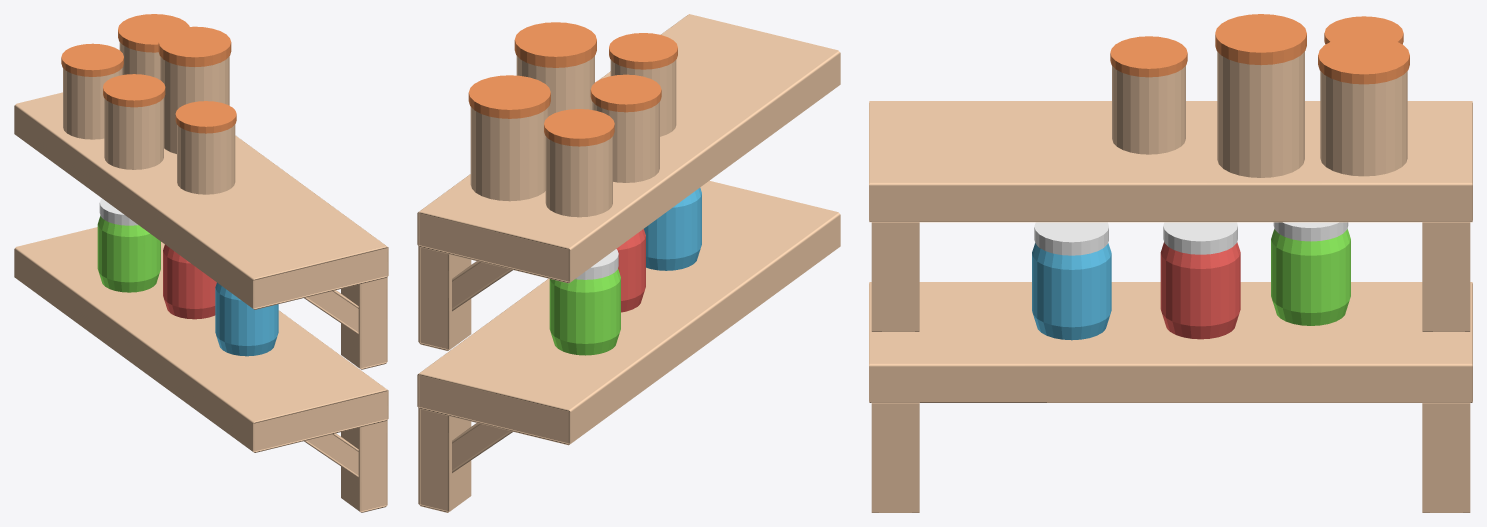
Rendered from especias.fbx.
3 views of the same model, side by side, from view 1: azimuth 30°, elevation 25°; view 2: azimuth 150°, elevation 25°; view 3: azimuth 270°, elevation 25° (orthographic). The views are drawn at different scales.
Visible parts, largest first — view 1: Hang shelf, Hang shelf.001, Wood jar, Jar; view 2: Hang shelf, Hang shelf.001, Wood jar, Jar; view 3: Hang shelf.001, Hang shelf, Wood jar, Jar.
Part boxes in pixels (x1,y1,x2,y2): Hang shelf: [14, 227, 388, 512]; Hang shelf.001: [14, 92, 388, 369]; Wood jar: [61, 14, 236, 194]; Jar: [97, 198, 278, 356]; Hang shelf: [417, 180, 840, 512]; Hang shelf.001: [417, 14, 840, 350]; Wood jar: [468, 22, 677, 217]; Jar: [549, 187, 701, 355]; Hang shelf.001: [869, 101, 1472, 331]; Hang shelf: [869, 282, 1472, 512]; Wood jar: [1110, 14, 1409, 177]; Jar: [1032, 222, 1350, 340].
Bounding box in the file's own units: 66.79 × 170 × 203.
